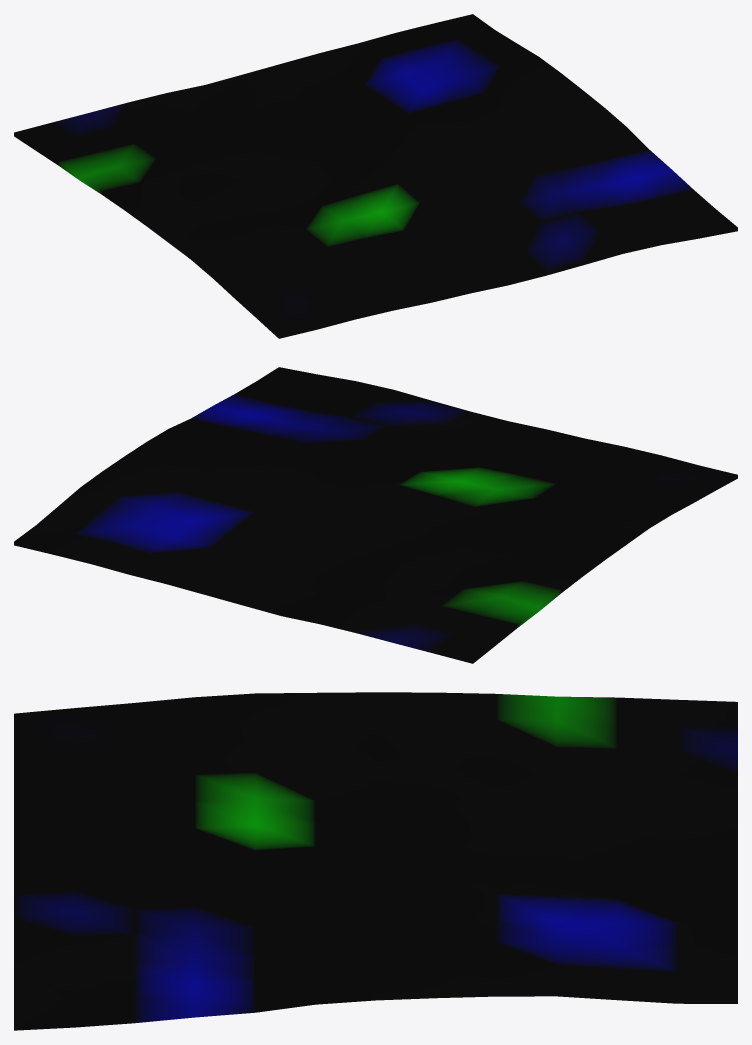
The model's file is coast_17_5.glb.
3 renders of one model, top to bottom at view 1: azimuth 30°, elevation 25°; view 2: azimuth 150°, elevation 25°; view 3: azimuth 270°, elevation 25°, orthographic. The views are drawn at different scales.
Visible parts, largest first — view 1: terrain; view 2: terrain; view 3: terrain.
Boxes of the visible parts, bbox=[...] form: terrain: bbox=[14, 14, 737, 338]; terrain: bbox=[14, 367, 737, 663]; terrain: bbox=[14, 692, 737, 1030].
Size of the model in its own units: 192 by 11.74 by 192.
